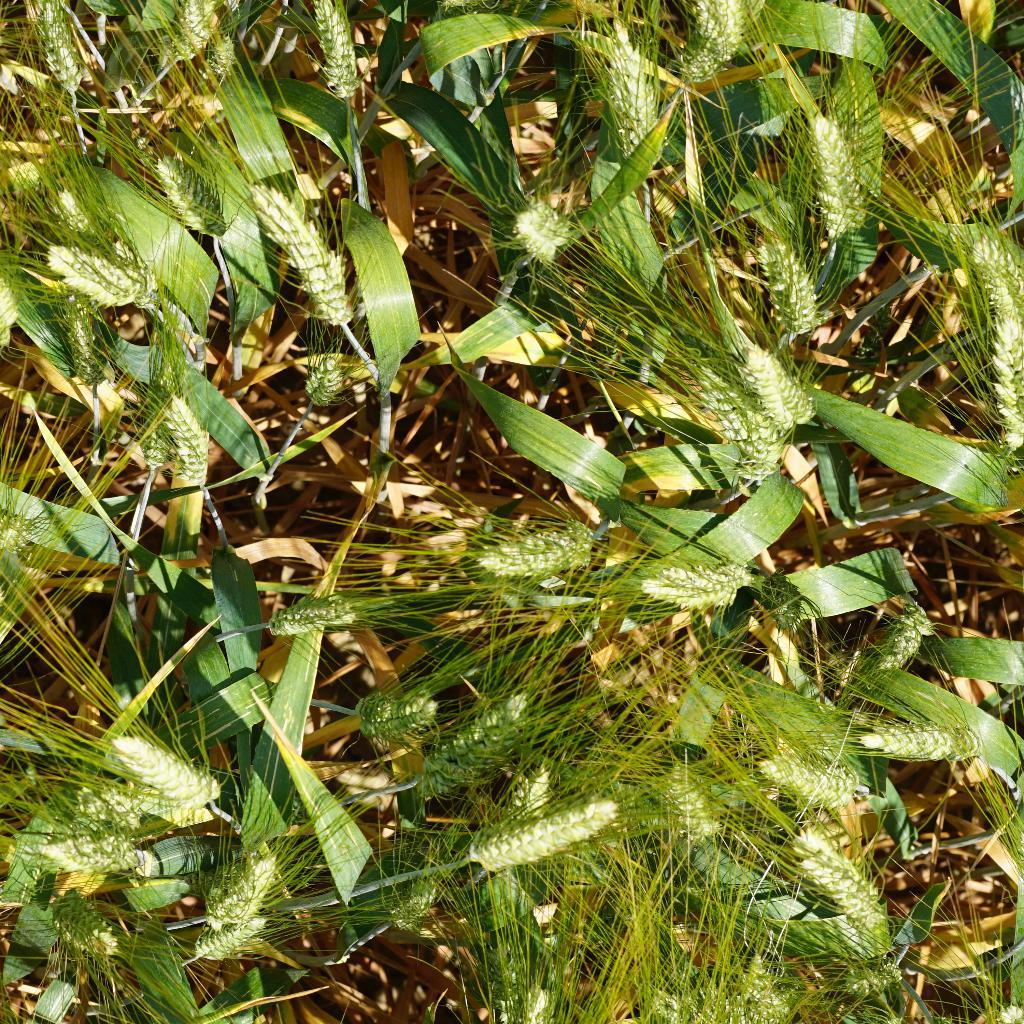0-0: (257, 175, 369, 331), (772, 89, 871, 249), (457, 789, 631, 878), (412, 698, 537, 803), (86, 712, 224, 807), (586, 11, 668, 163), (781, 819, 900, 923), (687, 351, 774, 484), (468, 509, 602, 590), (744, 223, 836, 340), (744, 725, 863, 814), (736, 320, 822, 443), (972, 269, 1024, 465), (473, 760, 560, 877), (146, 137, 242, 239), (851, 703, 983, 774), (307, 0, 385, 109), (48, 284, 123, 393), (645, 542, 748, 621), (41, 228, 152, 301), (8, 0, 94, 93), (955, 221, 1024, 336), (501, 187, 587, 279), (854, 587, 942, 676), (15, 157, 108, 240), (27, 819, 149, 879), (41, 886, 135, 961), (195, 844, 280, 925), (821, 930, 922, 998), (135, 350, 190, 471), (336, 677, 443, 739), (185, 907, 277, 979), (658, 970, 773, 1024), (269, 578, 366, 641), (649, 761, 722, 844), (167, 395, 227, 488), (683, 0, 747, 85), (727, 937, 785, 1024), (205, 15, 257, 112), (159, 0, 215, 79), (378, 867, 443, 933), (301, 342, 358, 411), (73, 778, 148, 829), (497, 969, 557, 1024), (0, 505, 46, 563)
